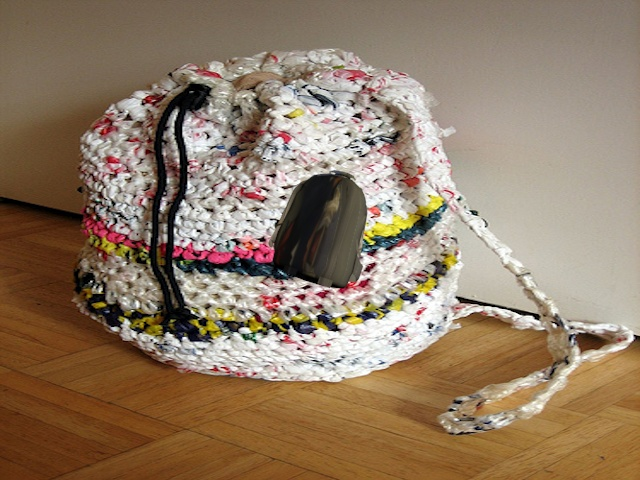back_pack: (257, 161, 369, 296)
